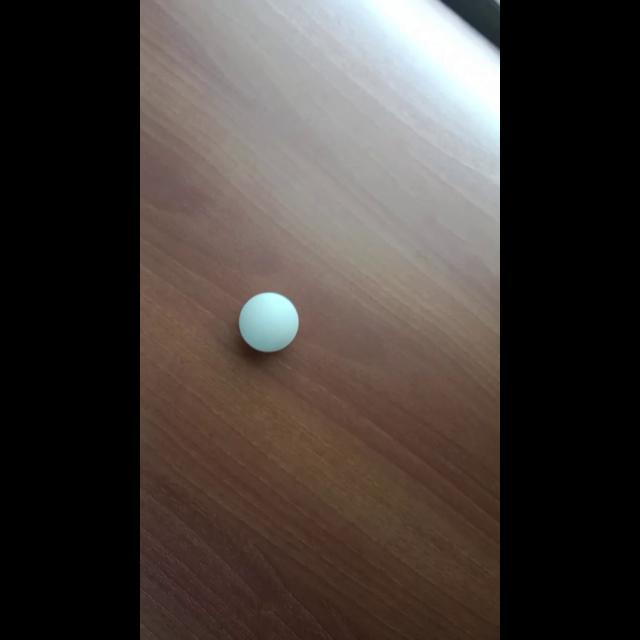white ball: (237, 291, 299, 353)
